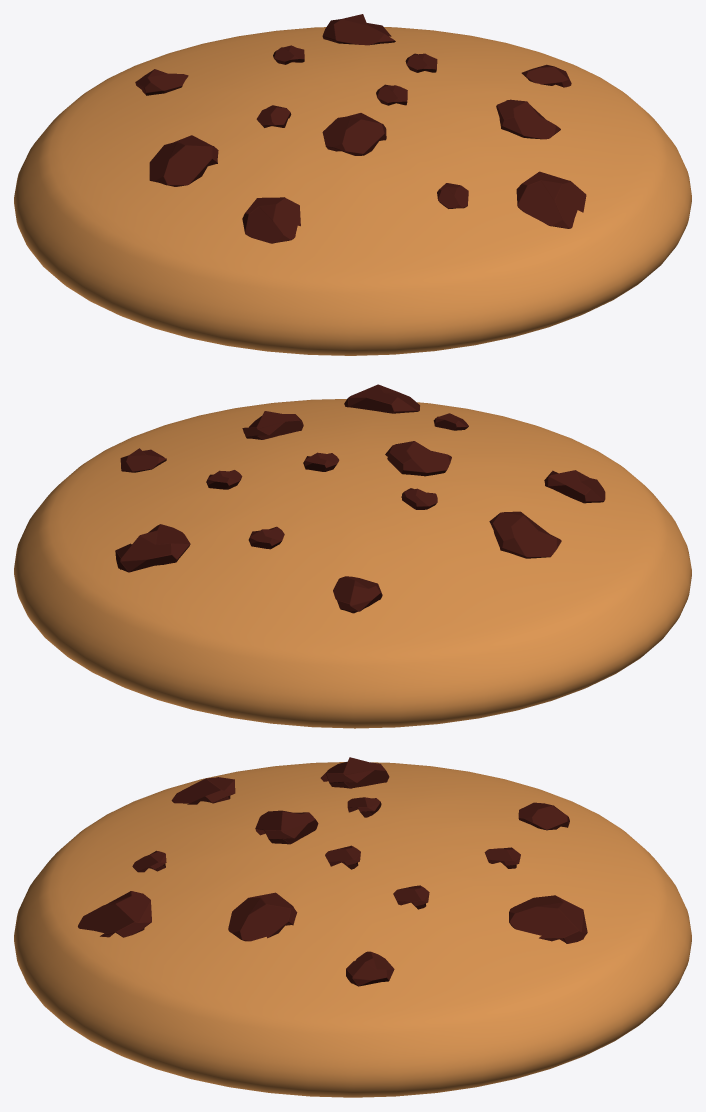
Rendered from Galleta.fbx.
The picture shows the model from 3 angles, top to bottom: view 1: azimuth 30°, elevation 25°; view 2: azimuth 150°, elevation 25°; view 3: azimuth 270°, elevation 25°; orthographic projection.
Visible parts, largest first — view 1: Cookie.001, Cubo.012, Cubo.005, Cookie, Cubo.003, Cubo.006, Cubo.004, Cubo, Cubo.001, Cubo.002, Cubo.008, Cubo.011; view 2: Cookie.001, Cubo.004, Cubo.005, Cubo.003, Cubo.012, Cookie, Cubo, Cubo.006, Cubo.001, Cubo.010, Cubo.008, Cubo.009 (+1 smaller); view 3: Cookie.001, Cubo.004, Cubo.006, Cubo.012, Cubo.003, Cubo.005, Cookie, Cubo.001, Cubo, Cubo.009, Cubo.011, Cubo.010.
Part boxes in pixels (bbox=[...]): Cookie.001: bbox=[14, 27, 691, 355]; Cubo.012: bbox=[516, 171, 586, 228]; Cubo.005: bbox=[149, 135, 218, 186]; Cookie: bbox=[242, 197, 300, 243]; Cubo.003: bbox=[322, 113, 386, 155]; Cubo.006: bbox=[496, 99, 560, 139]; Cubo.004: bbox=[322, 14, 395, 45]; Cubo: bbox=[135, 69, 188, 95]; Cubo.001: bbox=[521, 64, 571, 87]; Cubo.002: bbox=[437, 183, 468, 208]; Cubo.008: bbox=[256, 105, 291, 127]; Cubo.011: bbox=[376, 84, 407, 105]; Cookie.001: bbox=[14, 399, 691, 728]; Cubo.004: bbox=[115, 524, 190, 572]; Cubo.005: bbox=[489, 511, 561, 558]; Cubo.003: bbox=[385, 441, 451, 476]; Cubo.012: bbox=[344, 384, 419, 413]; Cookie: bbox=[544, 470, 605, 503]; Cubo: bbox=[333, 576, 382, 613]; Cubo.006: bbox=[242, 411, 303, 439]; Cubo.001: bbox=[120, 448, 166, 472]; Cubo.010: bbox=[248, 526, 284, 549]; Cubo.008: bbox=[401, 488, 437, 509]; Cubo.009: bbox=[206, 470, 242, 489]; Cookie.001: bbox=[14, 762, 691, 1097]; Cubo.004: bbox=[509, 895, 587, 943]; Cubo.006: bbox=[228, 892, 297, 941]; Cubo.012: bbox=[78, 891, 151, 937]; Cubo.003: bbox=[255, 810, 318, 844]; Cubo.005: bbox=[320, 757, 389, 788]; Cookie: bbox=[171, 777, 235, 804]; Cubo.001: bbox=[346, 951, 394, 986]; Cubo: bbox=[518, 802, 569, 830]; Cubo.009: bbox=[393, 885, 429, 909]; Cubo.011: bbox=[325, 845, 360, 869]; Cubo.010: bbox=[484, 847, 520, 868].
Size of the model in its own units: 5.63 by 1.3 by 5.55.
